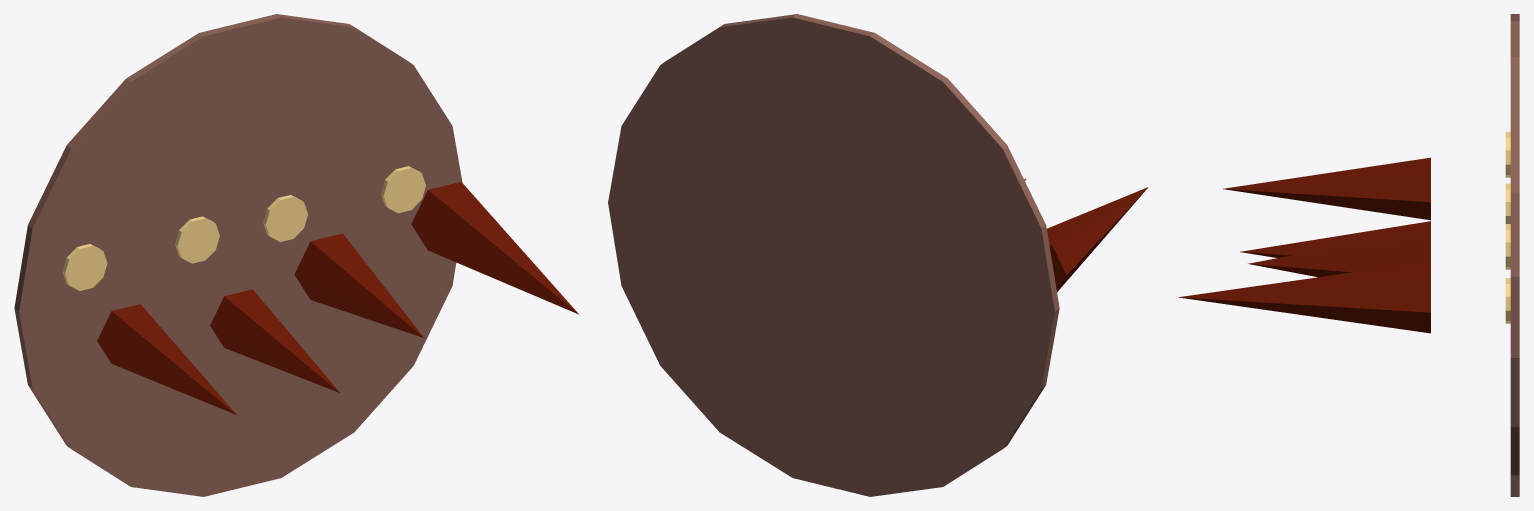
The model's file is 02_local_prop_cluster.glb.
3 views of the same model, side by side, from view 1: azimuth 30°, elevation 25°; view 2: azimuth 150°, elevation 25°; view 3: azimuth 270°, elevation 25° (orthographic). The views are drawn at different scales.
Visible parts, largest first — view 1: scatter_base, basalt_shard_3, basalt_shard_2, basalt_shard_0, basalt_shard_1, lava_glow_0, lava_glow_1, lava_glow_2, lava_glow_3; view 2: scatter_base, basalt_shard_0; view 3: basalt_shard_3, basalt_shard_0, scatter_base, basalt_shard_2, basalt_shard_1.
Part boxes in pixels (box(x1,y1,x2,y2)): scatter_base: box(14, 14, 462, 496); basalt_shard_3: box(411, 182, 578, 314); basalt_shard_2: box(294, 233, 423, 337); basalt_shard_0: box(97, 304, 236, 414); basalt_shard_1: box(210, 289, 339, 392); lava_glow_0: box(62, 244, 107, 290); lava_glow_1: box(175, 216, 219, 263); lava_glow_2: box(263, 195, 307, 241); lava_glow_3: box(381, 166, 425, 213); scatter_base: box(608, 14, 1059, 496); basalt_shard_0: box(1047, 187, 1148, 291); basalt_shard_3: box(1178, 261, 1430, 333); basalt_shard_0: box(1223, 157, 1430, 220); scatter_base: box(1510, 14, 1519, 496); basalt_shard_2: box(1248, 229, 1430, 277); basalt_shard_1: box(1240, 221, 1430, 257).
Bounding box in the file's own units: 1.9 × 1.87 × 1.34.
